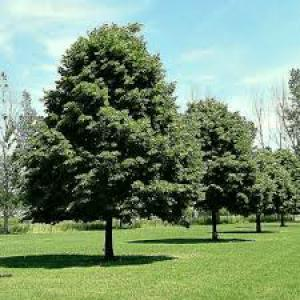Tree: (20, 17, 205, 258), (179, 94, 260, 242)
